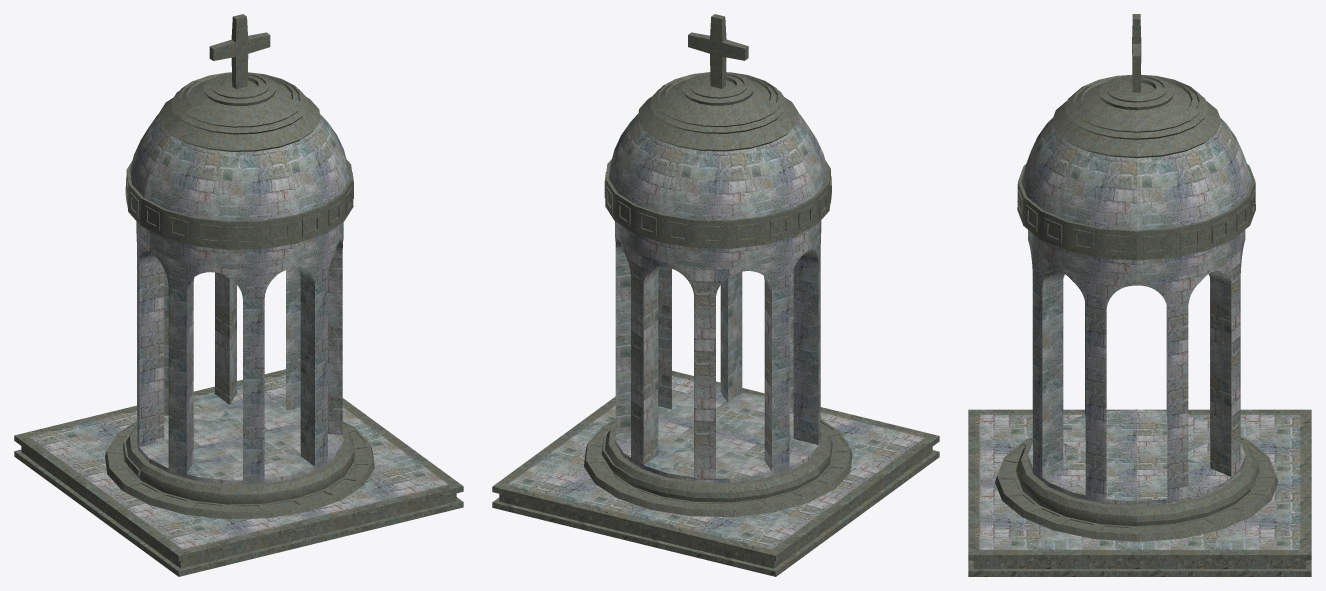
File: fbxTemple.fbx
3 renders of one model, left to right at view 1: azimuth 30°, elevation 25°; view 2: azimuth 150°, elevation 25°; view 3: azimuth 270°, elevation 25°, orthographic. The views are drawn at different scales.
Visible parts, largest first — view 1: dome, floor; view 2: dome, floor; view 3: dome, floor.
Boxes of the visible parts, left/top/right/bottom form: dome: left=105, top=14, right=374, bottom=519; floor: left=14, top=369, right=463, bottom=576; dome: left=584, top=14, right=852, bottom=516; floor: left=492, top=370, right=939, bottom=576; dome: left=995, top=14, right=1278, bottom=541; floor: left=968, top=409, right=1311, bottom=576.
Size of the model in its own units: 4.81 by 7.53 by 4.81.
Materials: 2 (2 with a texture image).
